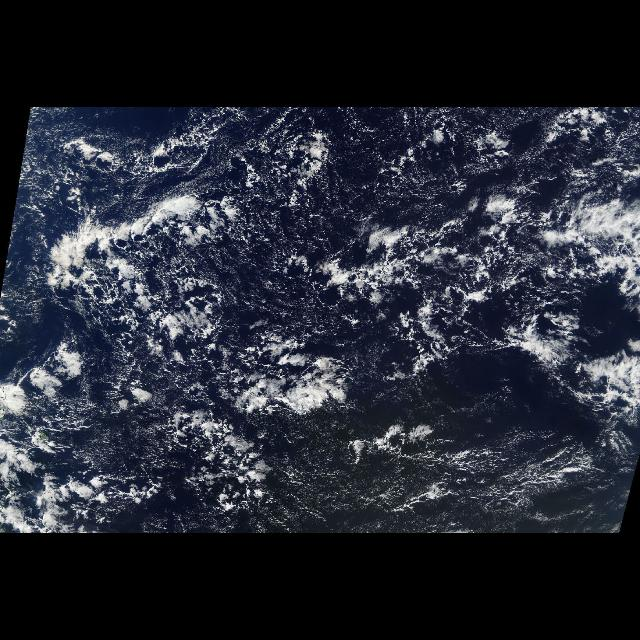Fish: (33, 160, 341, 354)
Gravel: (21, 120, 639, 408)
Sugar: (49, 123, 545, 519)
